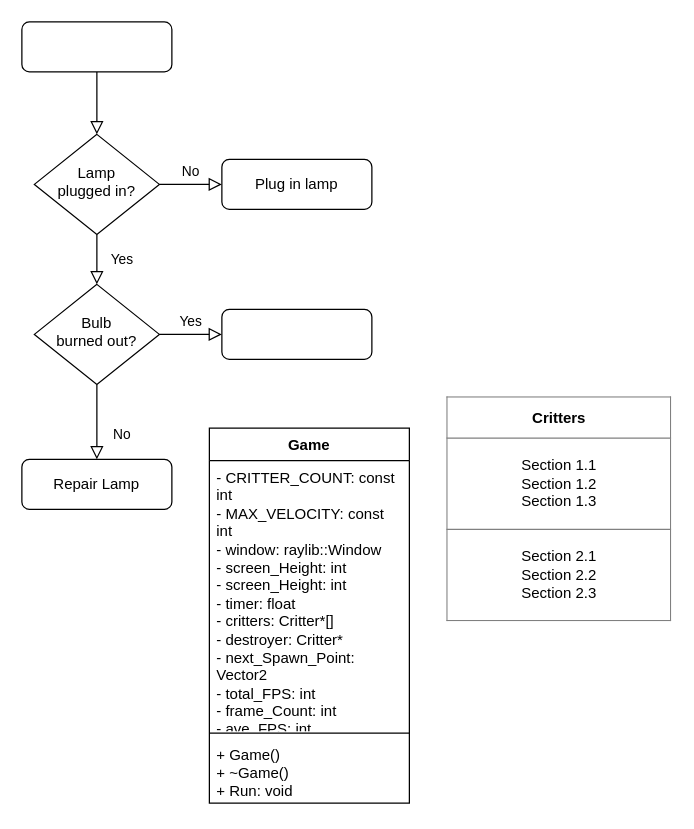
The diagram is 694 pixels wide and 829 high, and some of its shapes have lost their labels. Here are the shapes that lost their labels. From the top down, the centre of each, then its label:
the point at 96,46: Lamp doesn't work
the point at 296,333: Replace Bulb
